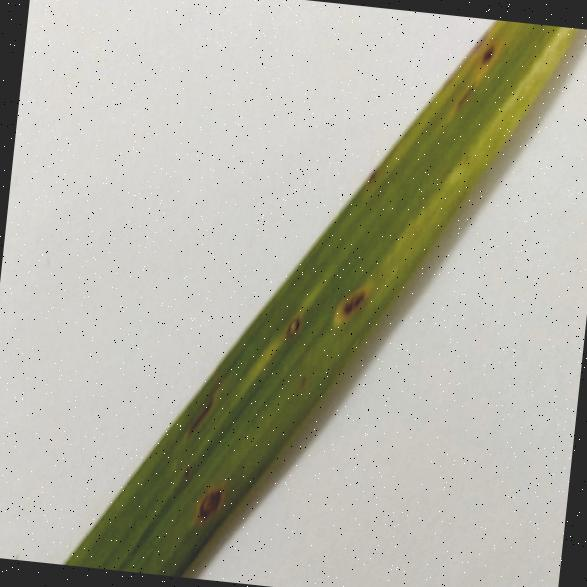Leaf_smut: (187, 468, 231, 530), (331, 274, 370, 332), (468, 38, 498, 67)
